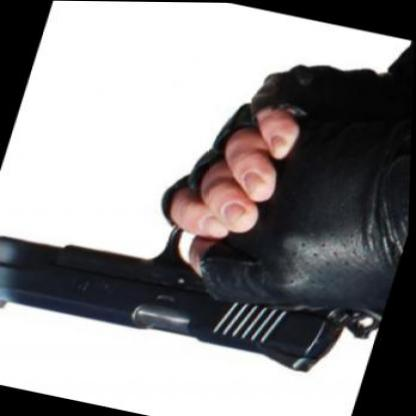pistol: (0, 180, 371, 378)
